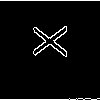X: (25, 24, 67, 58)
